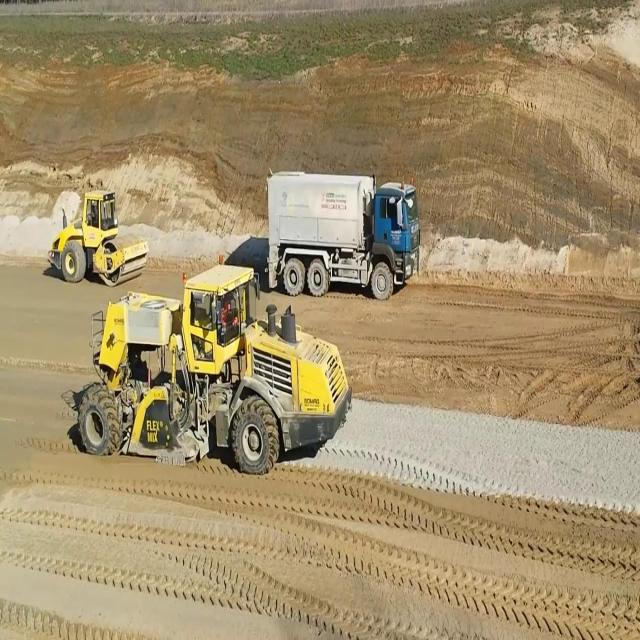dump_truck: (262, 164, 420, 303)
